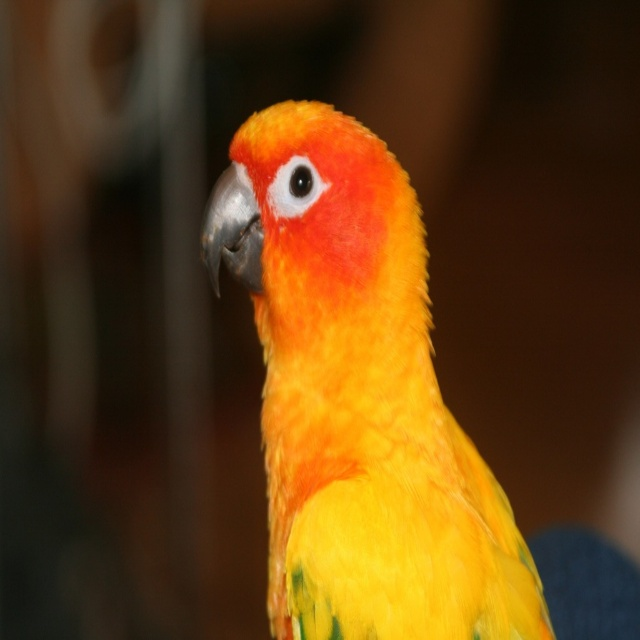Parrot: (198, 93, 559, 639), (198, 98, 560, 639)
